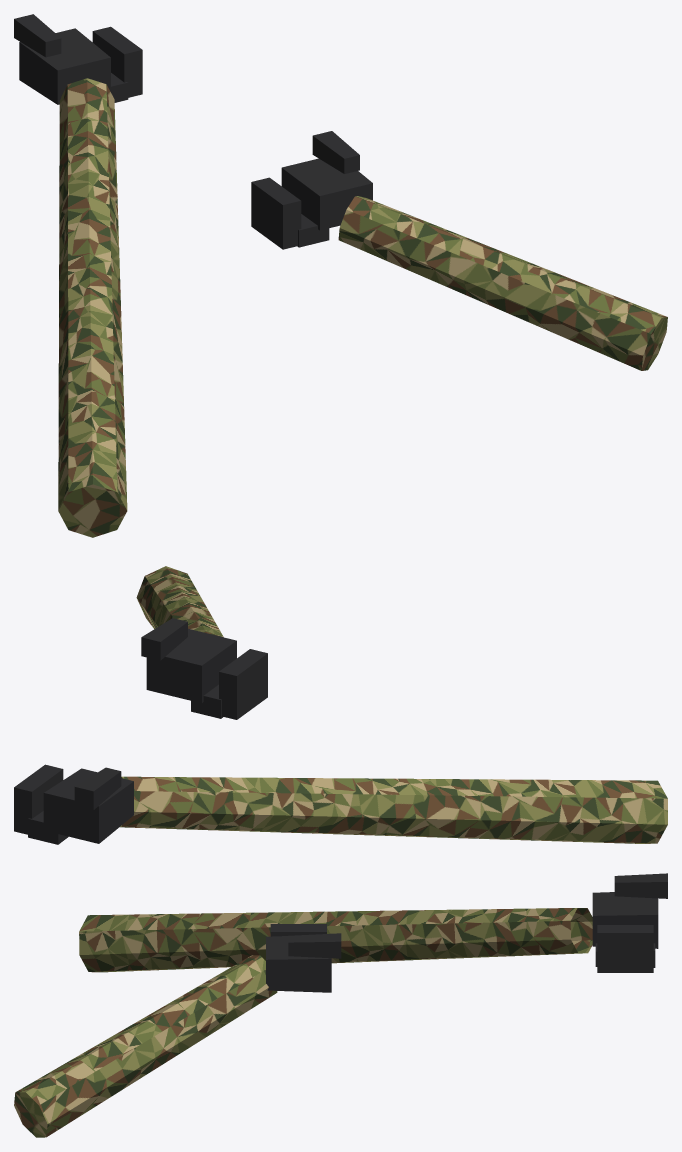
File: mosin_bracos.glb
The picture shows the model from 3 angles, top to bottom: view 1: azimuth 30°, elevation 25°; view 2: azimuth 150°, elevation 25°; view 3: azimuth 270°, elevation 25°; orthographic projection. The views are drawn at different scales.
Visible parts, largest first — view 1: MosinBracos; view 2: MosinBracos; view 3: MosinBracos.
Boxes of the visible parts, box(x1,y1,x2,y2) form: MosinBracos: box(14, 14, 667, 537); MosinBracos: box(14, 566, 667, 844); MosinBracos: box(14, 873, 667, 1137).
Bounding box in the file's own units: 1.11 × 0.422 × 1.23.
Materials: 2 (2 with a texture image).
